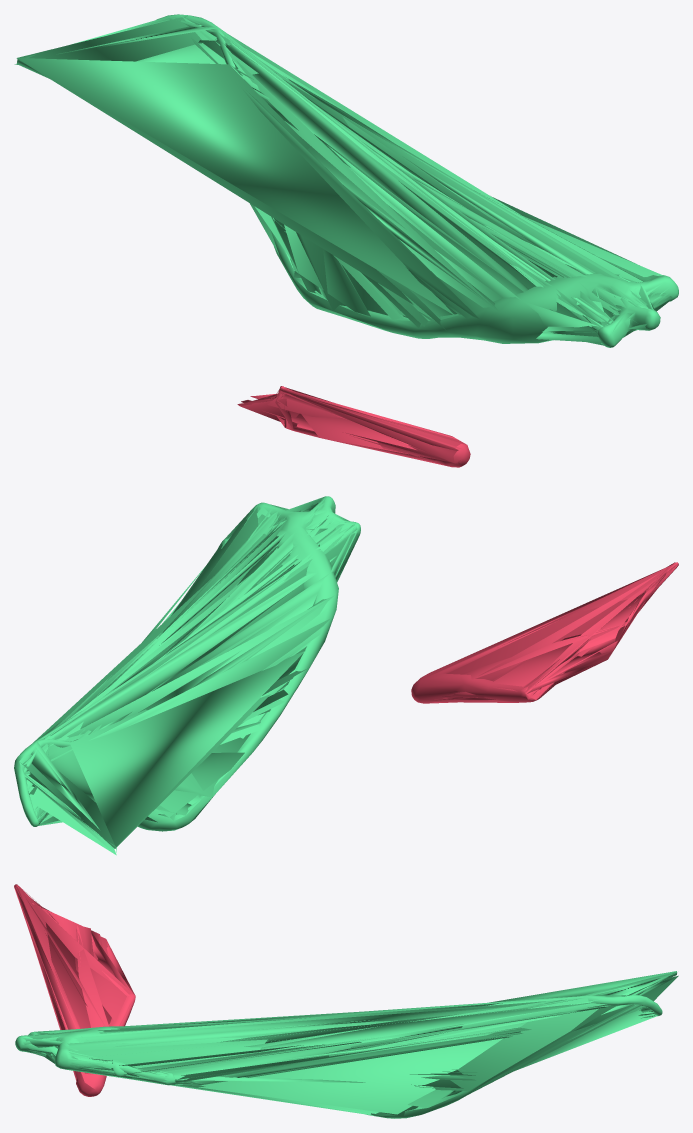
The model's file is organ-left-kidney.glb.
The picture shows the model from 3 angles, top to bottom: view 1: azimuth 30°, elevation 25°; view 2: azimuth 150°, elevation 25°; view 3: azimuth 270°, elevation 25°; orthographic projection. The views are drawn at different scales.
Visible parts, largest first — view 1: Ureter_Renal_Pelvis, Renal_Artery; view 2: Ureter_Renal_Pelvis, Renal_Artery; view 3: Ureter_Renal_Pelvis, Renal_Artery.
Boxes of the visible parts, x1,y1,x2,y2 form: Ureter_Renal_Pelvis: (14, 14, 678, 347); Renal_Artery: (237, 386, 470, 467); Ureter_Renal_Pelvis: (14, 496, 360, 855); Renal_Artery: (411, 562, 678, 703); Ureter_Renal_Pelvis: (15, 971, 678, 1118); Renal_Artery: (14, 884, 135, 1096).
Size of the model in its own units: 0.2833 by 0.111 by 0.4993.
